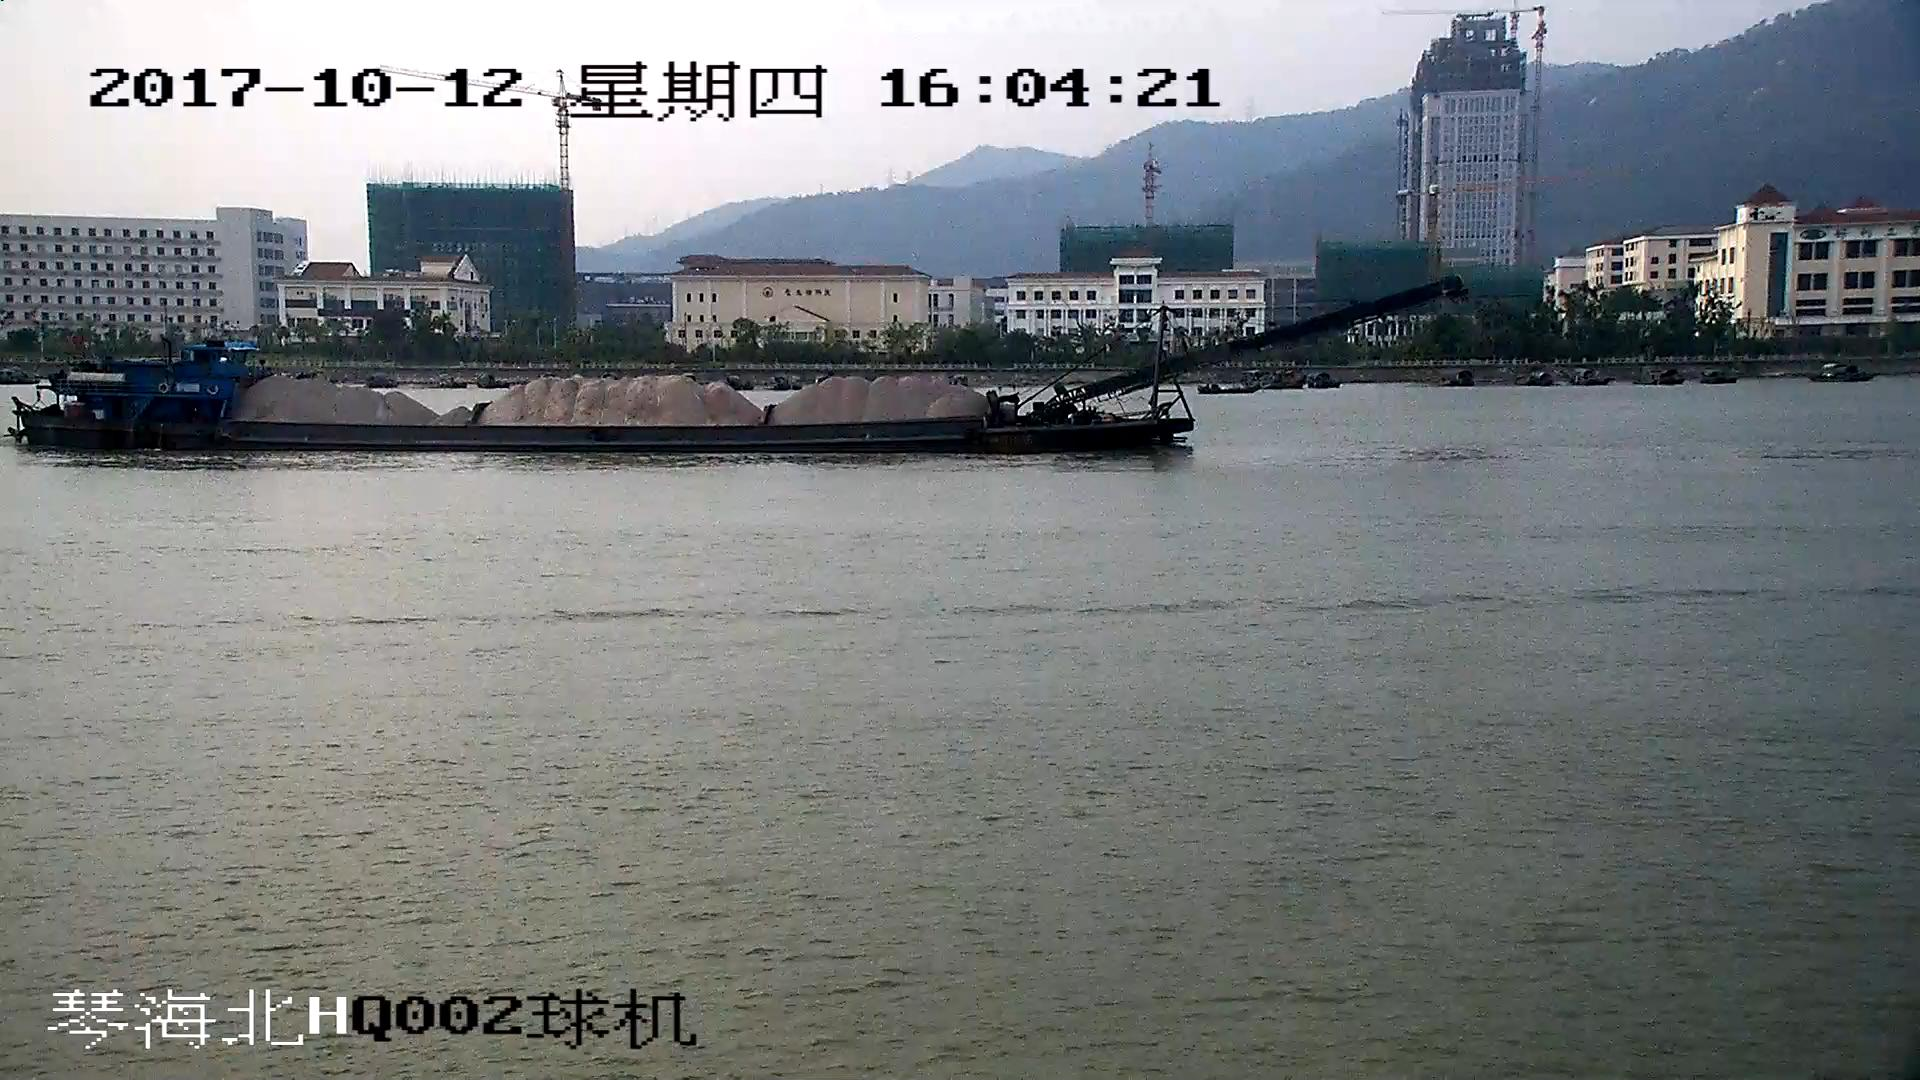ore carrier: (14, 279, 1456, 451)
